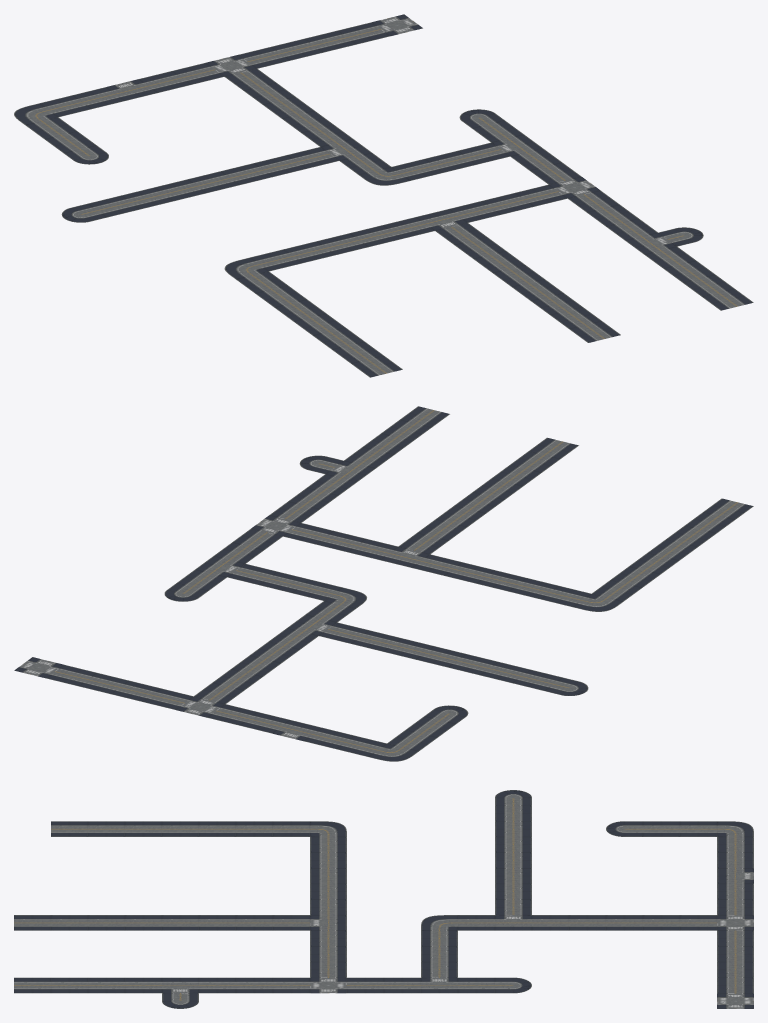
The model's file is m_idle_bg_road_a_02.fbx.
The picture shows the model from 3 angles, top to bottom: view 1: azimuth 30°, elevation 25°; view 2: azimuth 150°, elevation 25°; view 3: azimuth 270°, elevation 25°; orthographic projection. The views are drawn at different scales.
Visible parts, largest first — view 1: m_idle_bg_road_a_02; view 2: m_idle_bg_road_a_02; view 3: m_idle_bg_road_a_02.
Part boxes in pixels (x1,y1,x2,y2): m_idle_bg_road_a_02: [14, 14, 753, 377]; m_idle_bg_road_a_02: [14, 406, 753, 761]; m_idle_bg_road_a_02: [14, 790, 753, 1008].
Bounding box in the file's own units: 350 × 0.000185 × 500.
